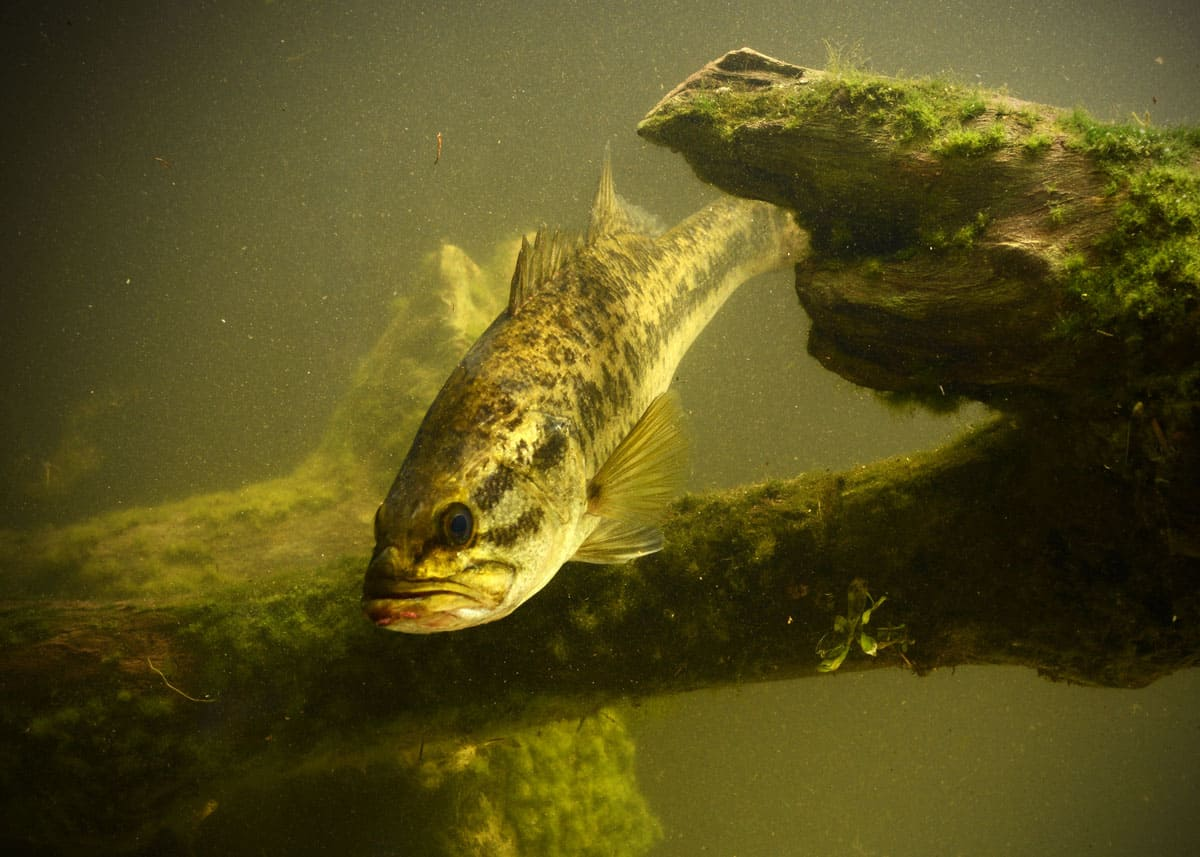fish: (352, 156, 809, 644)
